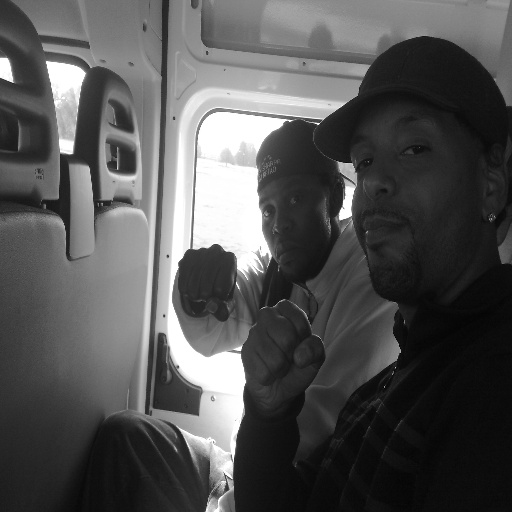hand: (242, 290, 328, 432), (178, 241, 238, 322)
